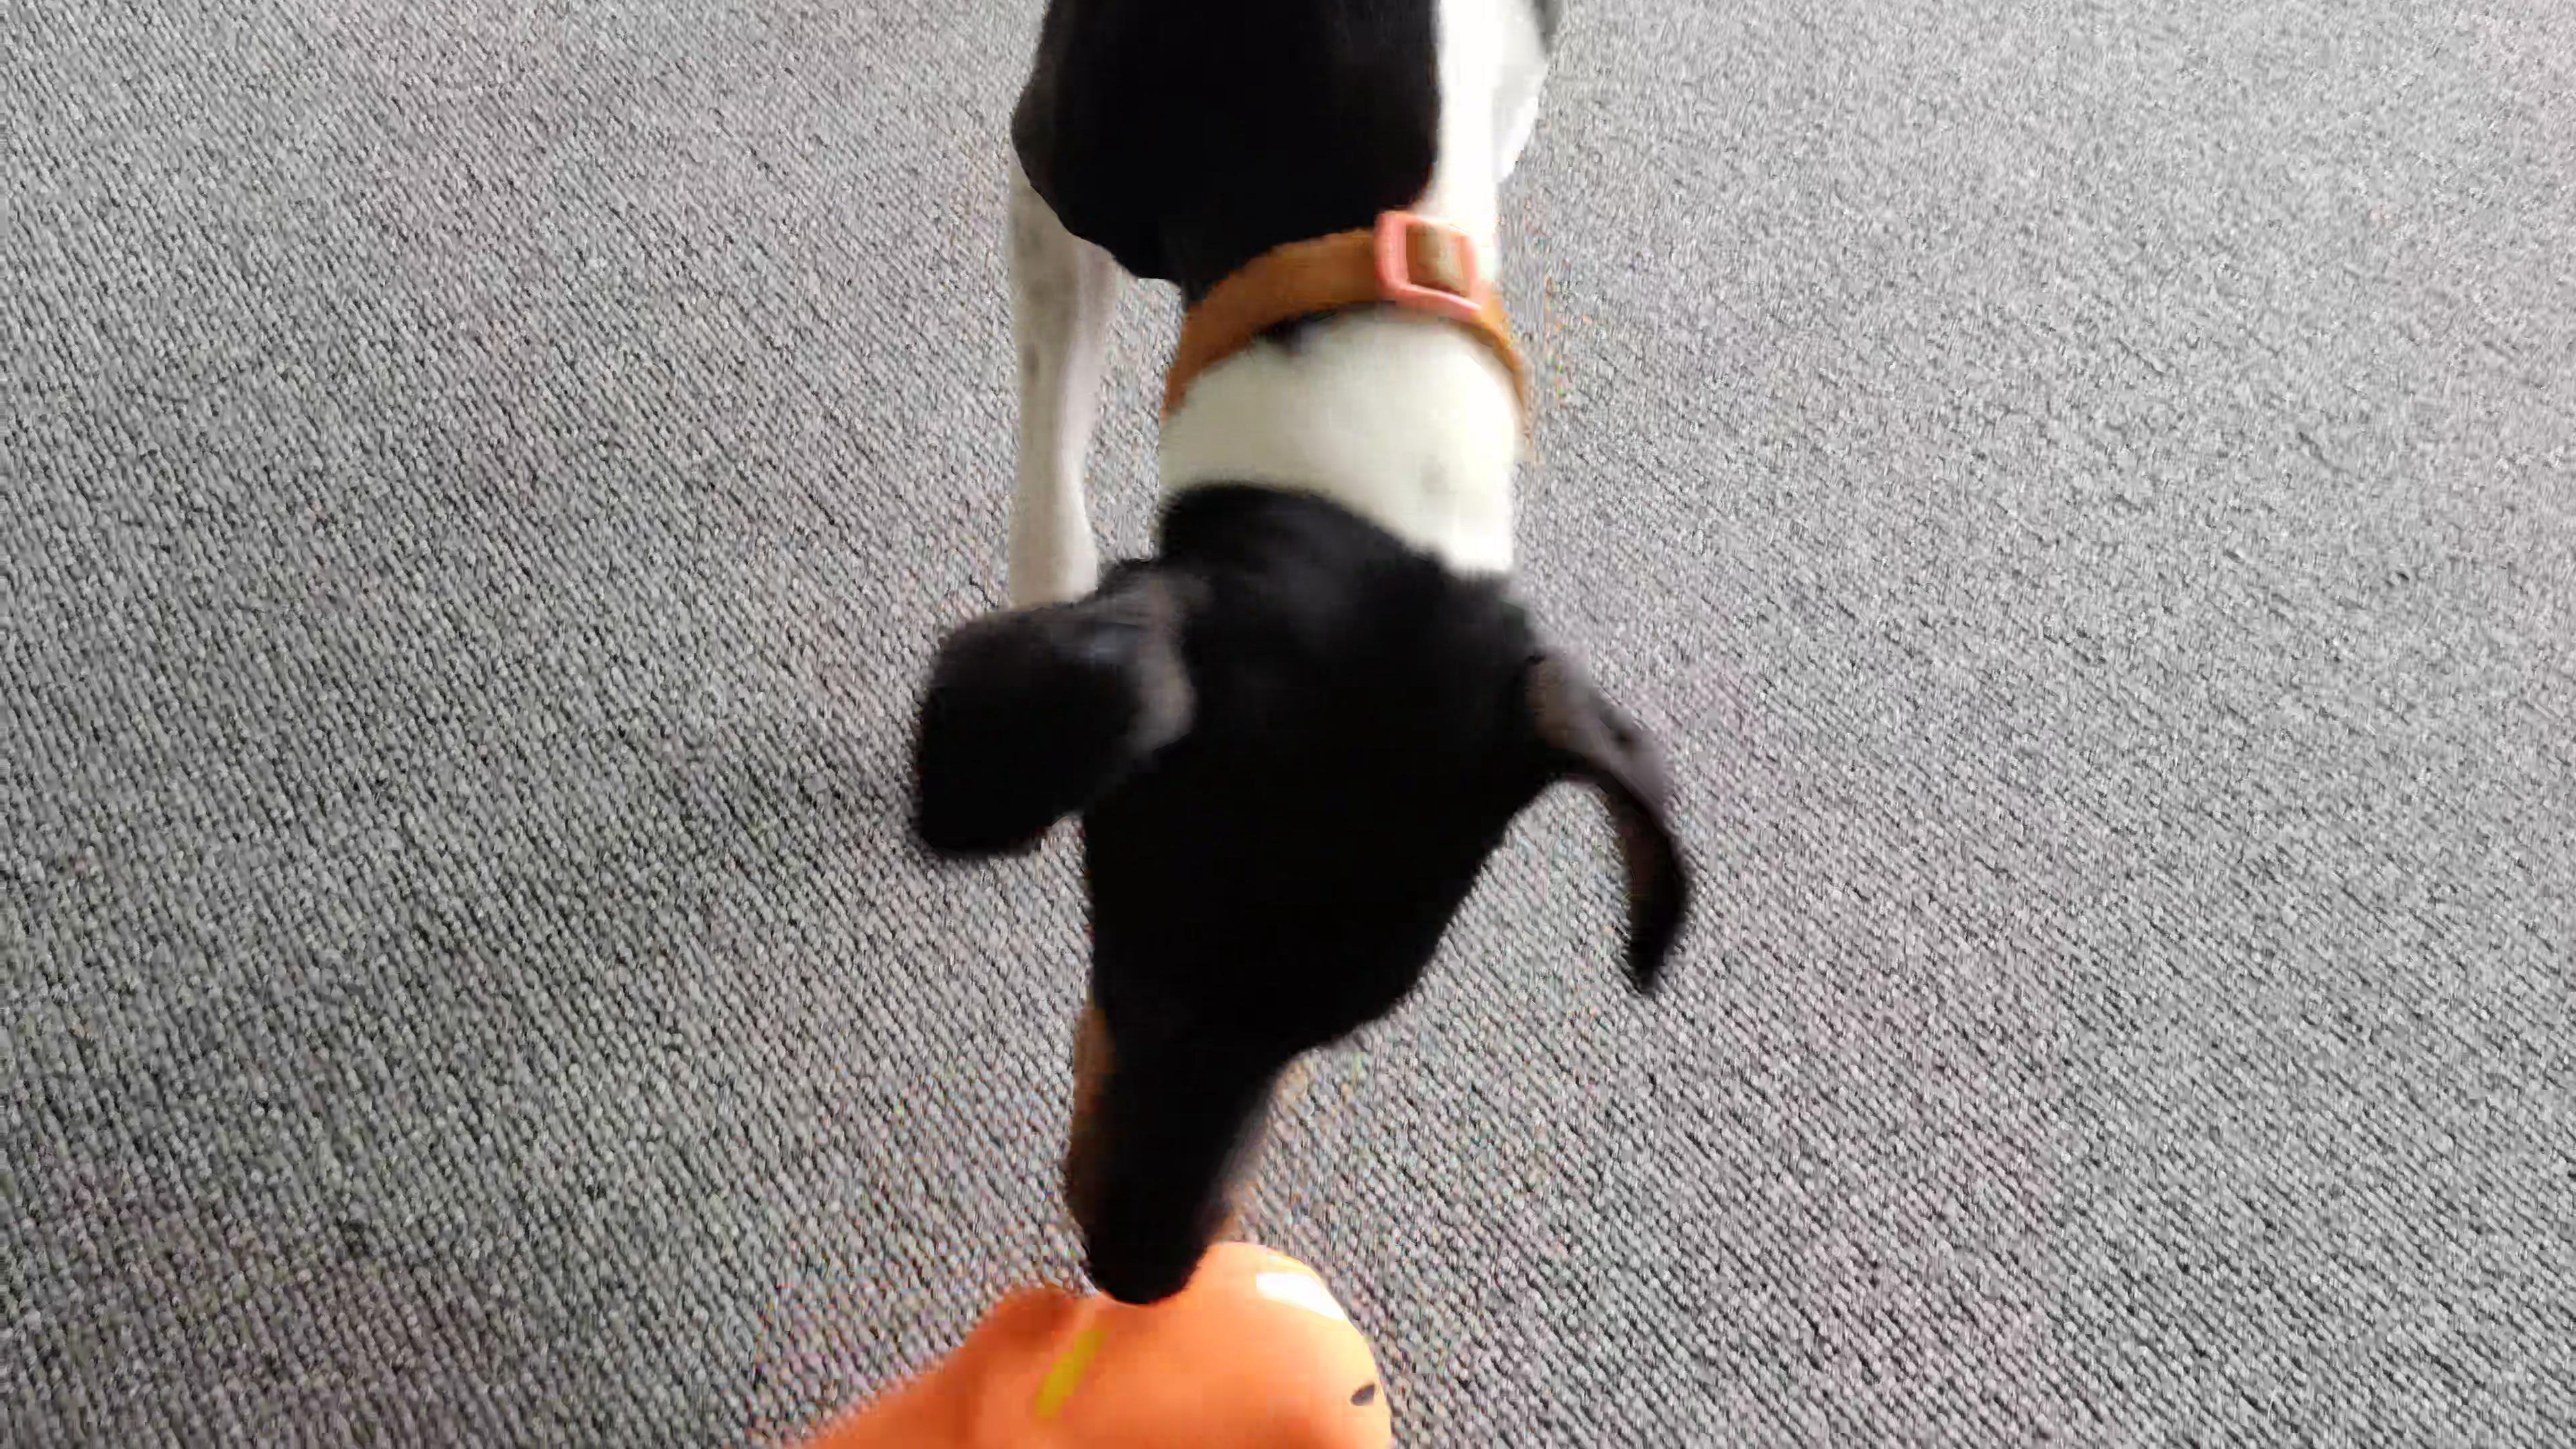Dog: (892, 0, 1706, 1329)
